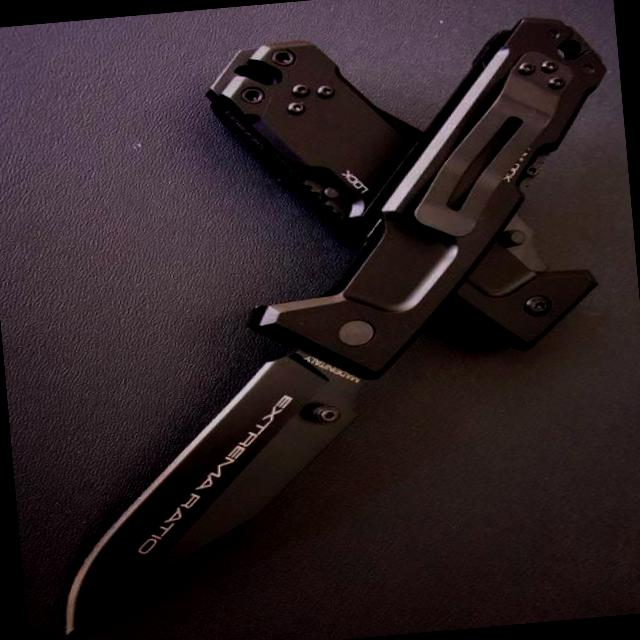knife: (22, 281, 444, 639)
